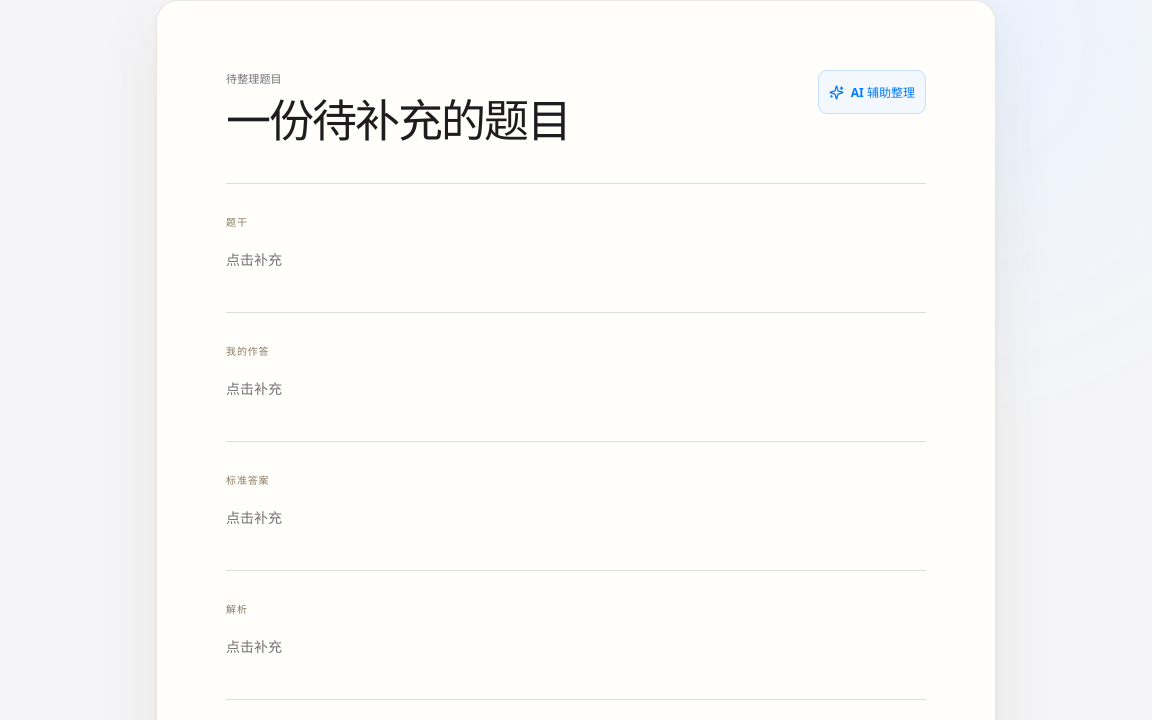
Test: saves an added stem with the document version
The image size is (1152, 720).
Step 1. Click the button with aria-label "补充题干" → [254, 260], box x1=226 y1=238 x2=926 y2=282
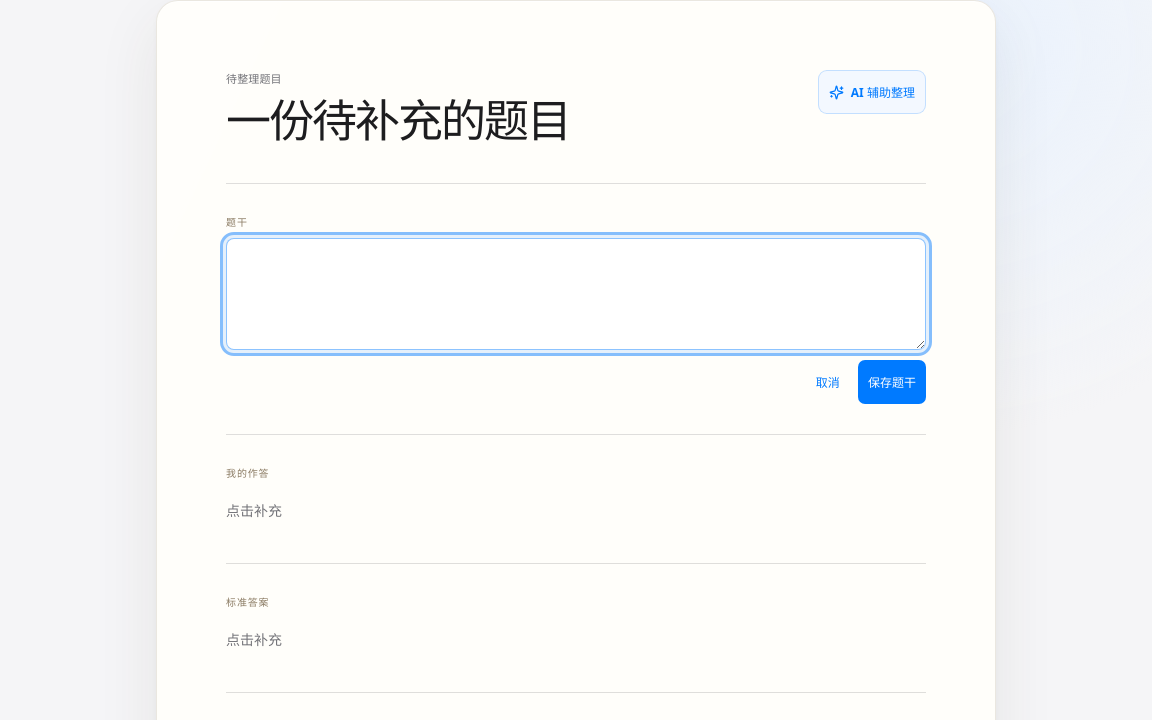
Step 2. Type "LM 曲线何时右移？" into the text box named "编辑题干" → [576, 294], box x1=226 y1=238 x2=926 y2=350
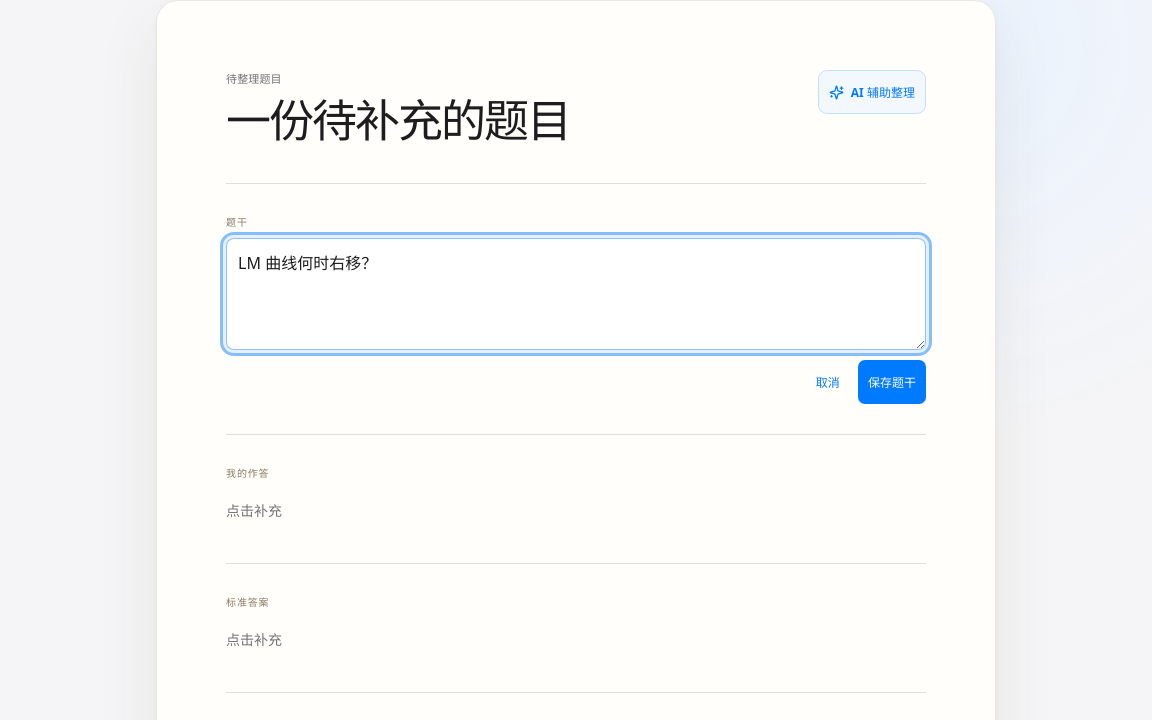
Step 3. Click the button "保存题干" → [892, 382], box x1=858 y1=360 x2=926 y2=404
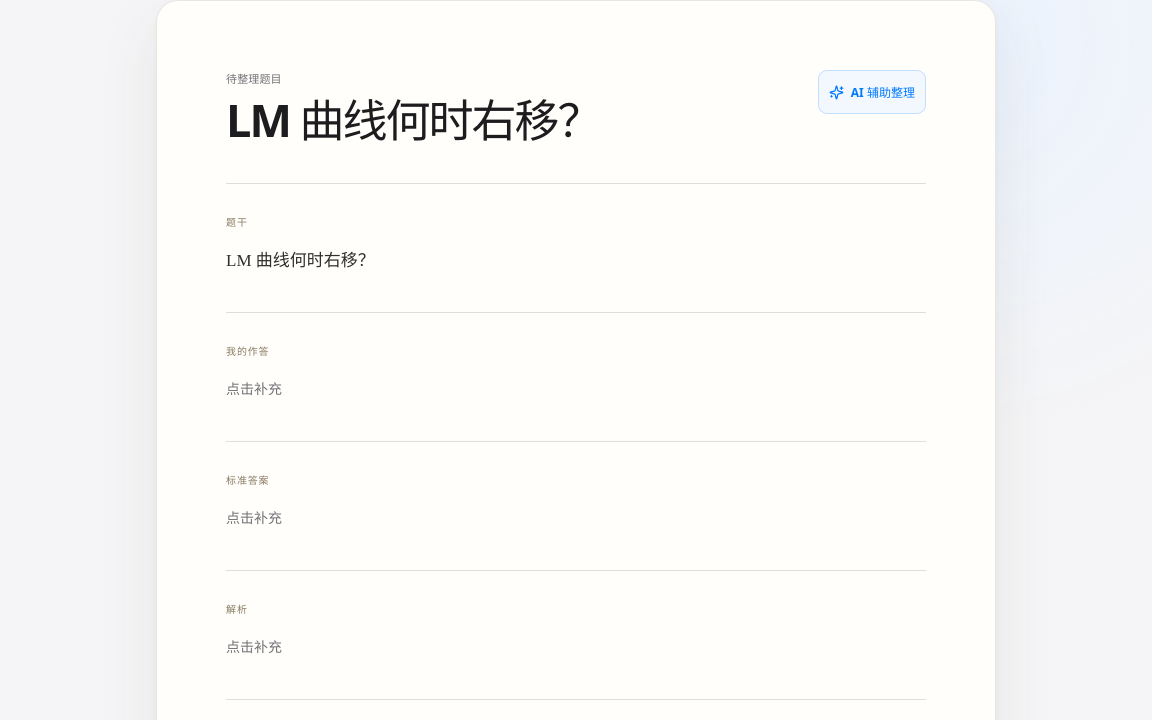
expect the heading "LM 曲线何时右移？" is shown: met, box x1=226 y1=93 x2=600 y2=147
